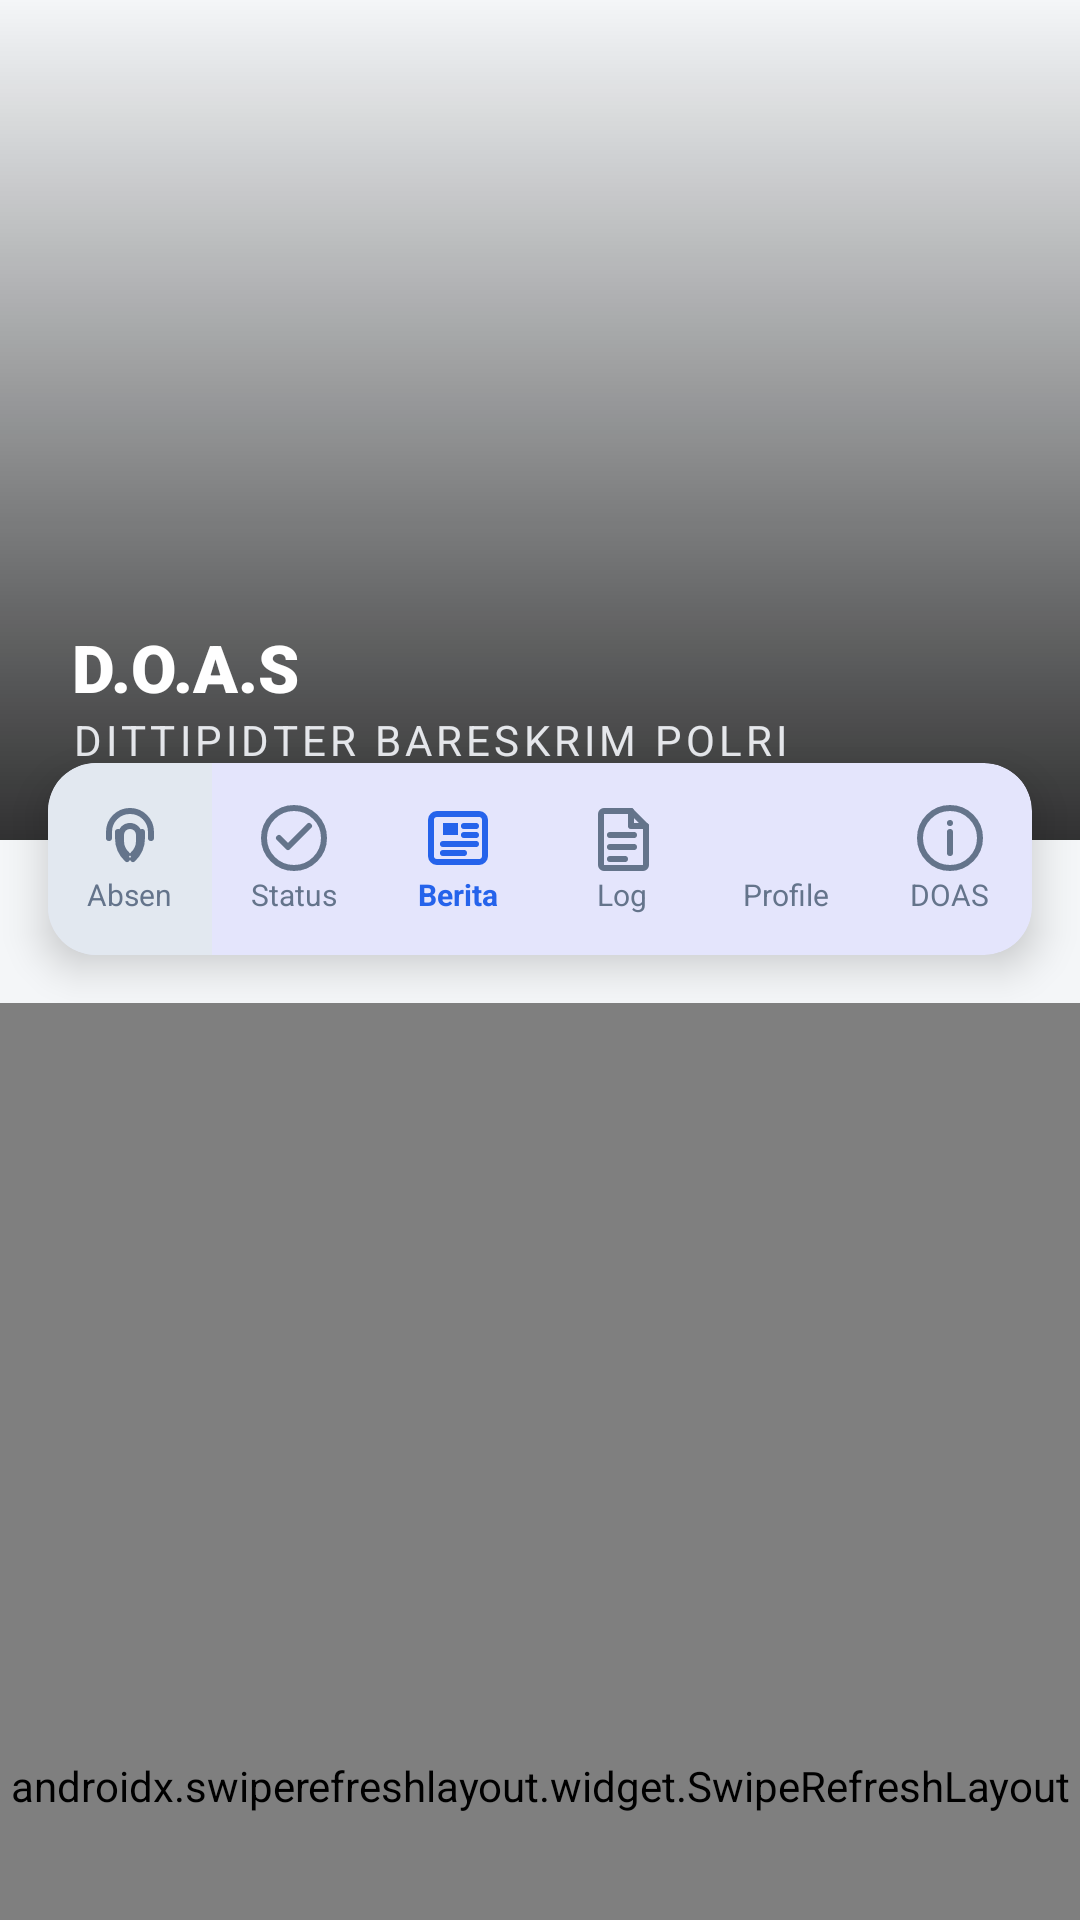

Point at icon controls on the screen. Image size 1080×1920, points as (x=x, y=y).
about: (x=950, y=838)
fingerprint: (x=130, y=835)
